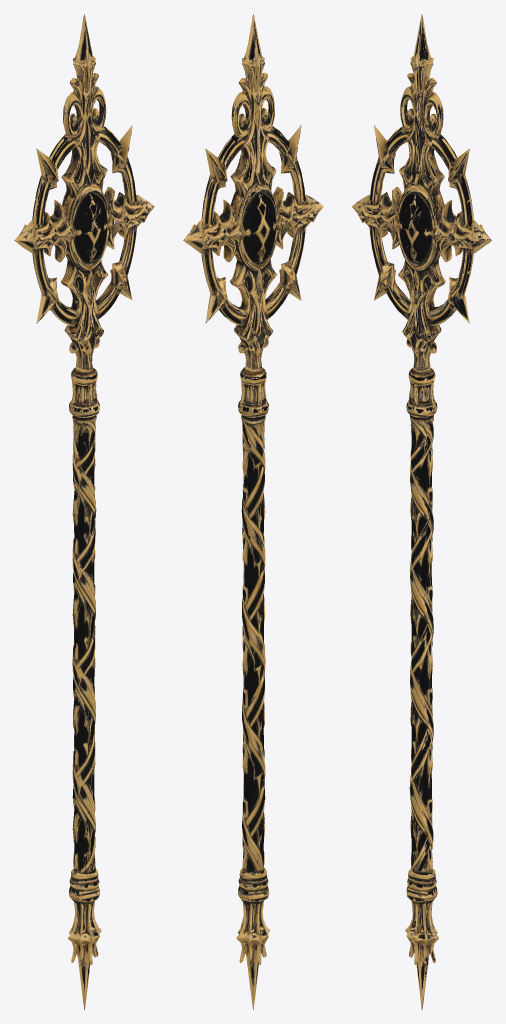
Rendered from staff-black.glb.
The picture shows the model from 3 angles, left to right: view 1: azimuth 30°, elevation 25°; view 2: azimuth 210°, elevation 25°; view 3: azimuth 330°, elevation 25°; orthographic projection.
Parts seen in each view (by area): view 1: Staff; view 2: Staff; view 3: Staff.
Boxes of the visible parts, x1,y1,x2,y2 form: Staff: (14, 14, 154, 1009); Staff: (183, 14, 323, 1009); Staff: (352, 14, 491, 1009).
Bounding box in the file's own units: 0.2721 × 1.85 × 0.0751.
1 material, 1 textured.
